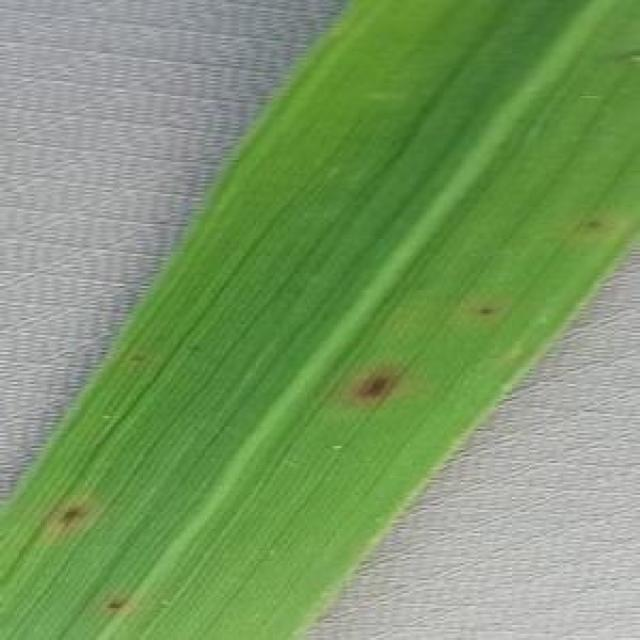brownspots: (53, 497, 109, 529), (356, 362, 393, 408), (98, 590, 145, 616), (467, 298, 504, 322)
